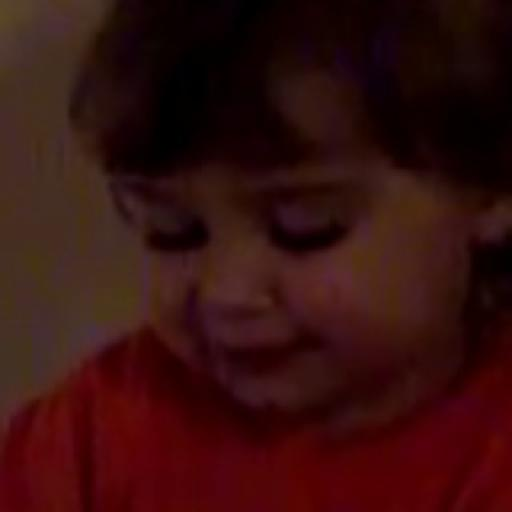Autism: (73, 22, 489, 448)
